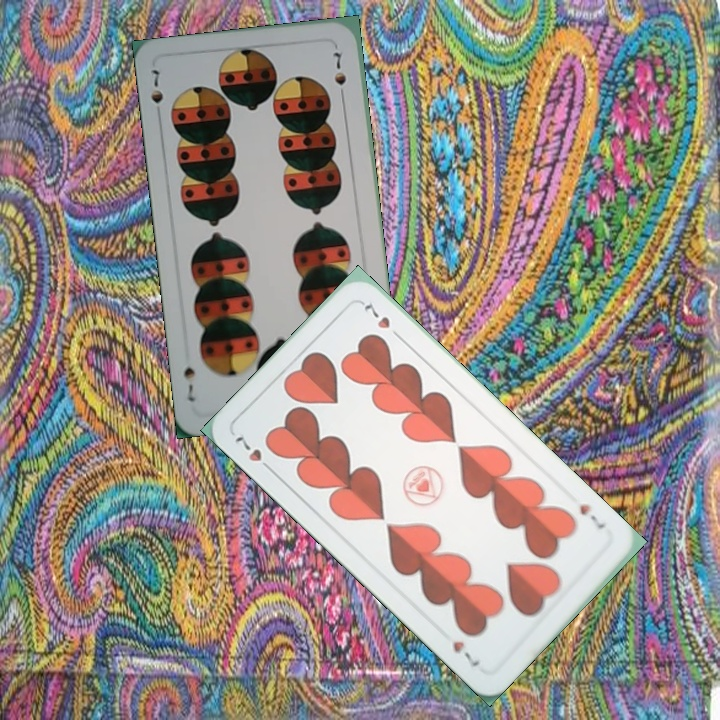H7: (230, 430, 277, 476), (575, 500, 608, 532)
S7: (146, 65, 166, 106)
